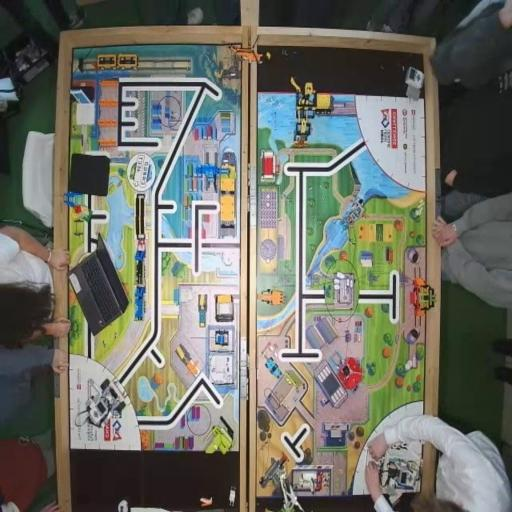lego_robot: (378, 441, 424, 496), (86, 377, 127, 429)
